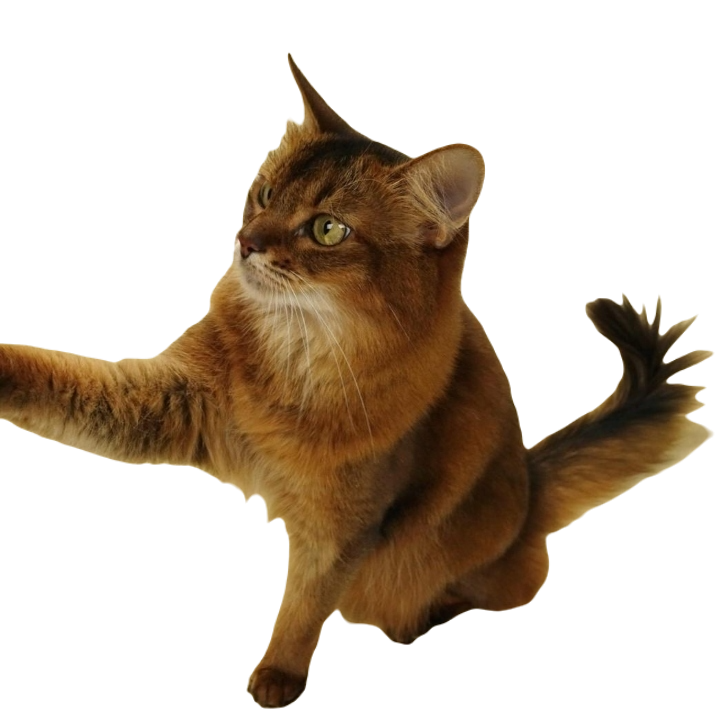Cat: (0, 49, 717, 714)
